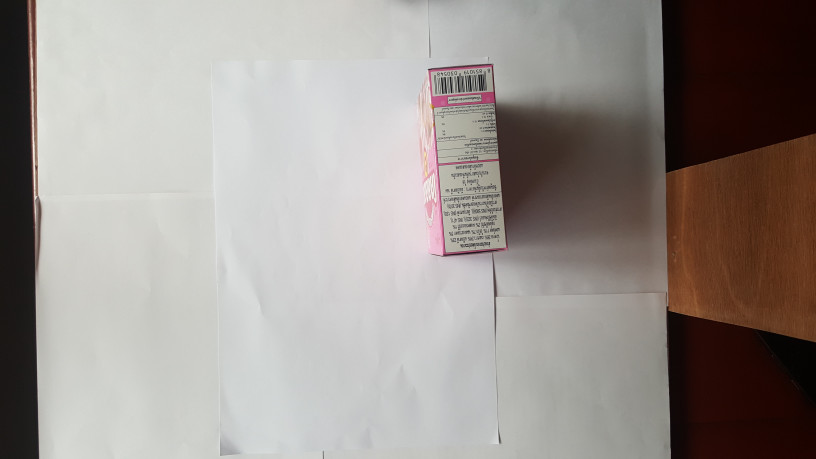collon-strawberry: (418, 63, 508, 259)
